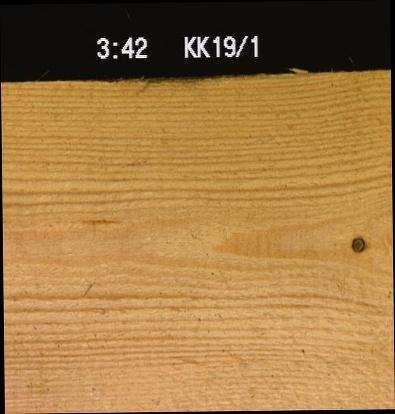dry_knot: (349, 235, 366, 254)
